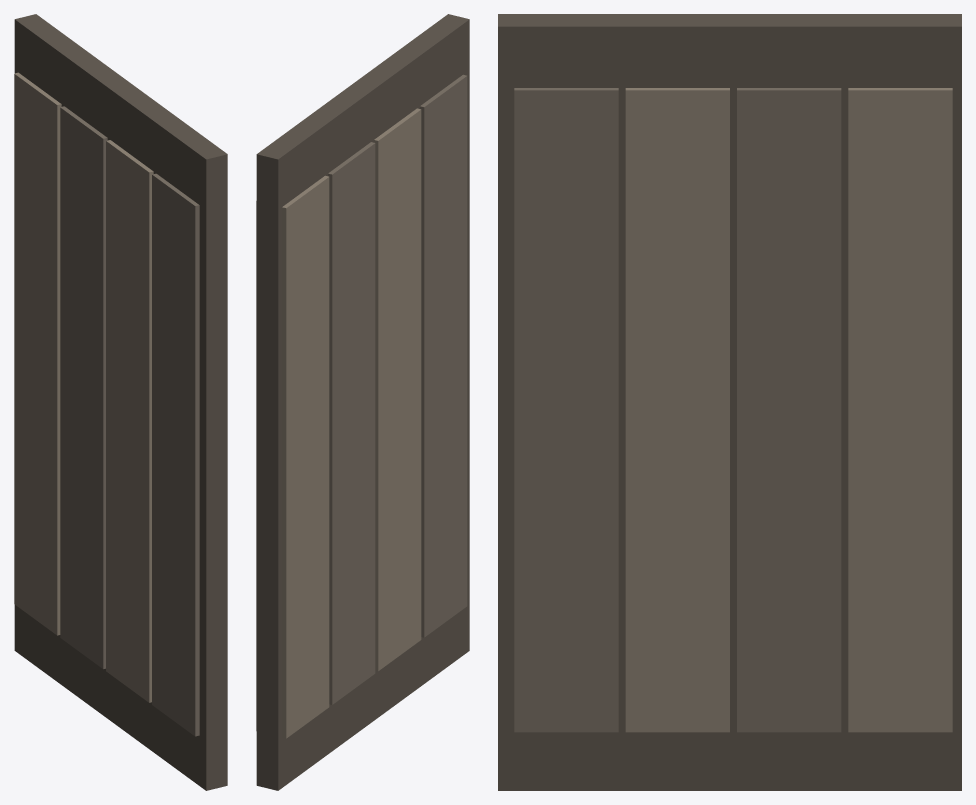
Rendered from divider.glb.
3 renders of one model, left to right at view 1: azimuth 30°, elevation 25°; view 2: azimuth 150°, elevation 25°; view 3: azimuth 270°, elevation 25°, orthographic. The views are drawn at different scales.
Visible parts, largest first — view 1: divider; view 2: divider; view 3: divider.
Boxes of the visible parts, x1,y1,x2,y2 form: divider: (14, 14, 227, 790); divider: (256, 14, 469, 790); divider: (498, 14, 961, 790).
Size of the model in its own units: 0.1 by 2 by 1.1.
